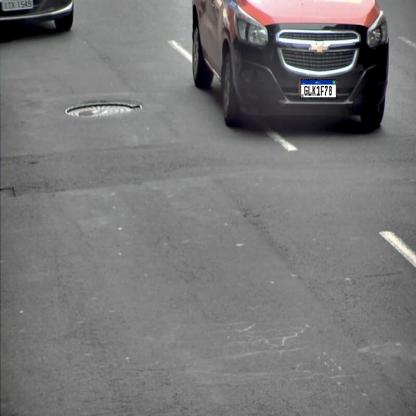PlacaM: (300, 79, 336, 98)
